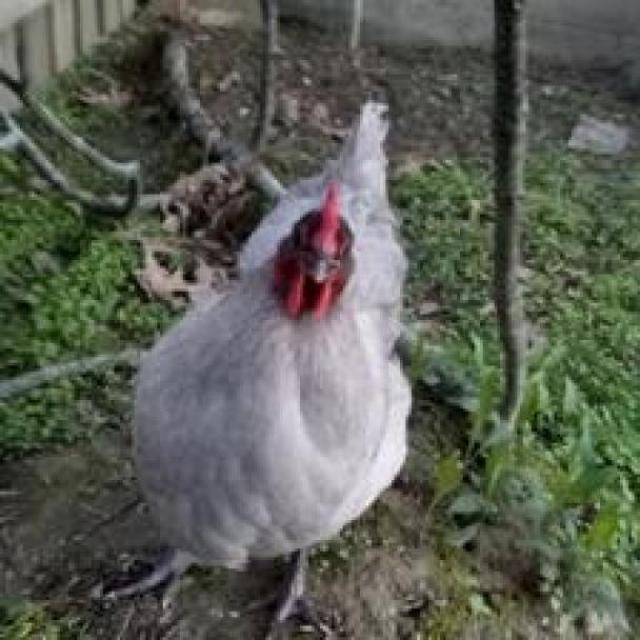Chicken: (100, 87, 487, 636)
